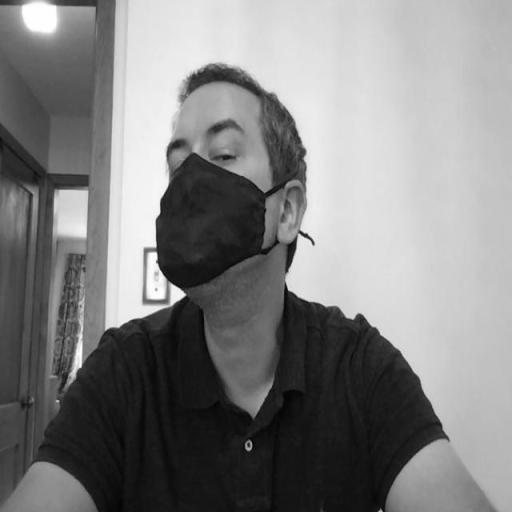mask: (154, 63, 306, 289)
